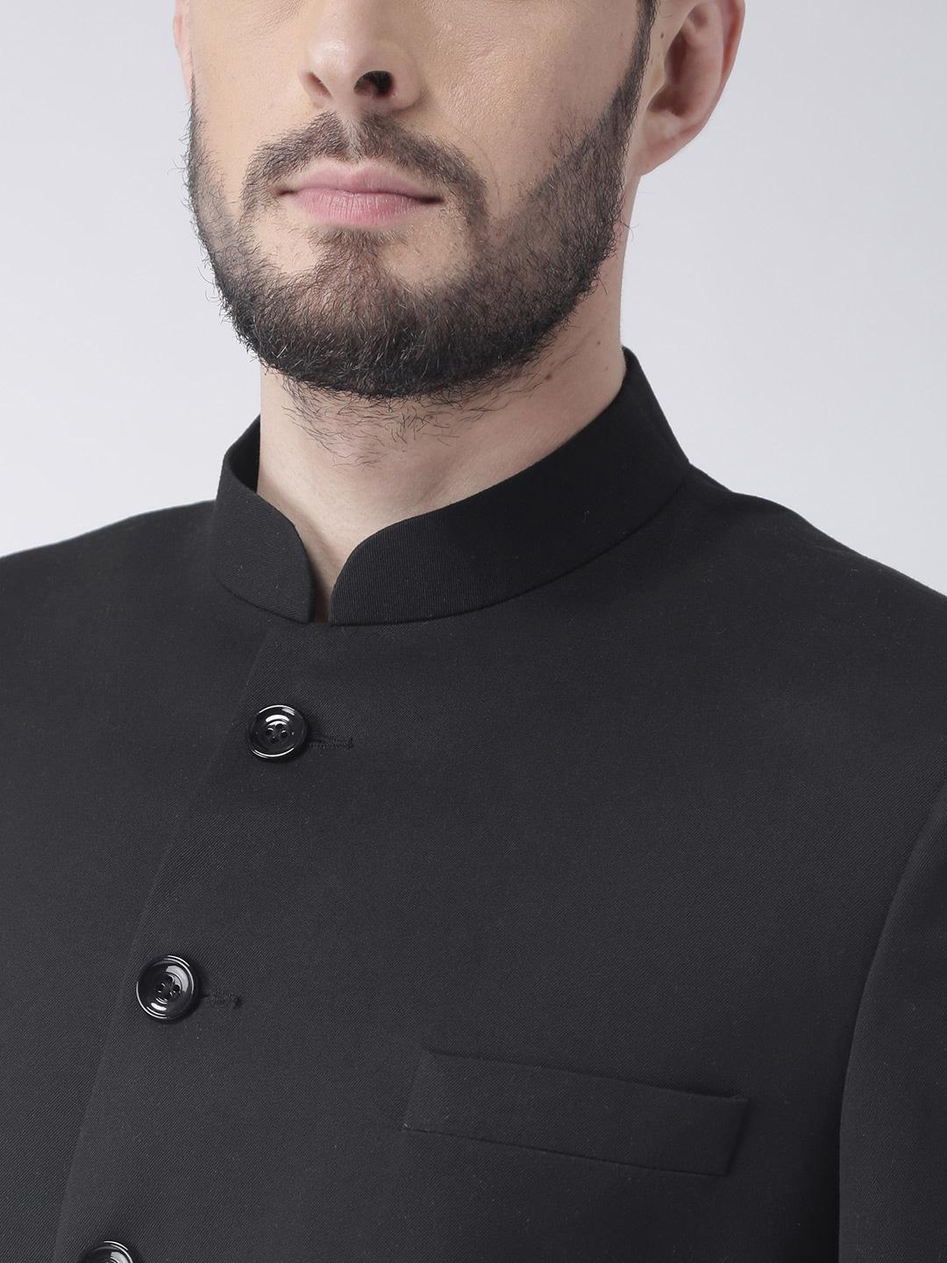Plain Sherwani: (3, 347, 944, 1258)
